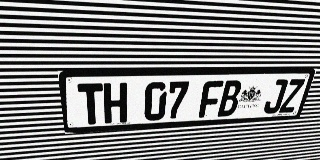0: (144, 82, 168, 121)
7: (165, 81, 189, 120)
B: (217, 80, 243, 117)
F: (198, 81, 224, 118)
H: (103, 83, 127, 124)
J: (262, 79, 289, 114)
T: (77, 83, 104, 125)
Z: (279, 79, 305, 113)
